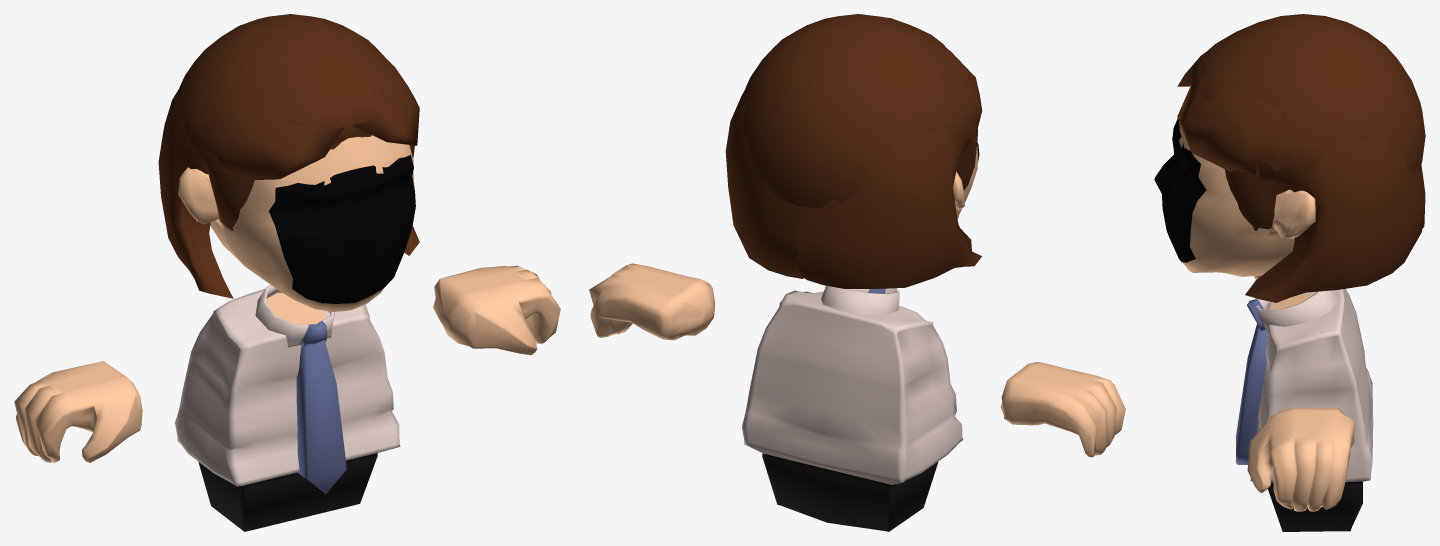
Rendered from npc.fbx.
3 renders of one model, left to right at view 1: azimuth 30°, elevation 25°; view 2: azimuth 150°, elevation 25°; view 3: azimuth 270°, elevation 25°, orthographic.
Parts seen in each view (by area): view 1: body.001, npc_hair_0, Cube, face.001, DevinHead.002, hands.002, hands.001, collar.001; view 2: body.001, npc_hair_0, Cube, hands.002, hands.001, collar.001; view 3: Cube, npc_hair_0, body.001, hands.001, DevinHead.002, collar.001, face.001.
Part boxes in pixels (left/top/right/bottom): body.001: left=175, top=289, right=400, bottom=531; npc_hair_0: left=176, top=14, right=414, bottom=230; Cube: left=158, top=59, right=419, bottom=298; face.001: left=269, top=155, right=415, bottom=303; DevinHead.002: left=178, top=135, right=414, bottom=311; hands.002: left=14, top=361, right=142, bottom=462; hands.001: left=433, top=265, right=560, bottom=355; collar.001: left=255, top=284, right=346, bottom=493; body.001: left=742, top=290, right=962, bottom=531; npc_hair_0: left=742, top=14, right=977, bottom=208; Cube: left=725, top=46, right=982, bottom=288; hands.002: left=1000, top=362, right=1125, bottom=457; hands.001: left=589, top=263, right=715, bottom=340; collar.001: left=821, top=285, right=899, bottom=314; Cube: left=1177, top=50, right=1425, bottom=302; npc_hair_0: left=1191, top=14, right=1425, bottom=230; body.001: left=1250, top=289, right=1373, bottom=531; hands.001: left=1247, top=407, right=1355, bottom=511; DevinHead.002: left=1179, top=122, right=1315, bottom=276; collar.001: left=1236, top=290, right=1337, bottom=464; face.001: left=1154, top=118, right=1206, bottom=262.
Size of the model in its own units: 215 by 191 by 97.88.
